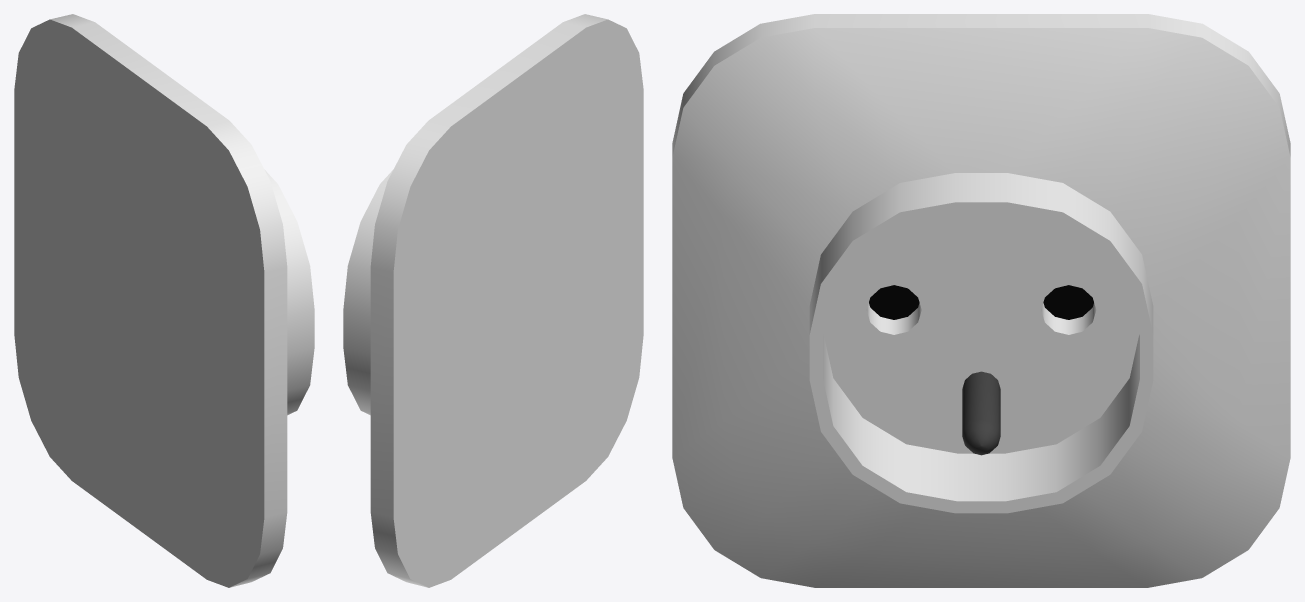
Rendered from Gniazdko.fbx.
The picture shows the model from 3 angles, left to right: view 1: azimuth 30°, elevation 25°; view 2: azimuth 150°, elevation 25°; view 3: azimuth 270°, elevation 25°; orthographic projection. The views are drawn at different scales.
Visible parts, largest first — view 1: Cube; view 2: Cube; view 3: Cube.
Part boxes in pixels (<box>): Cube: <box>14,14,314,587</box>; Cube: <box>343,14,643,587</box>; Cube: <box>672,14,1290,587</box>.
Size of the model in its own units: 56.17 by 200 by 200.
Materials: 1 (1 with a texture image).
